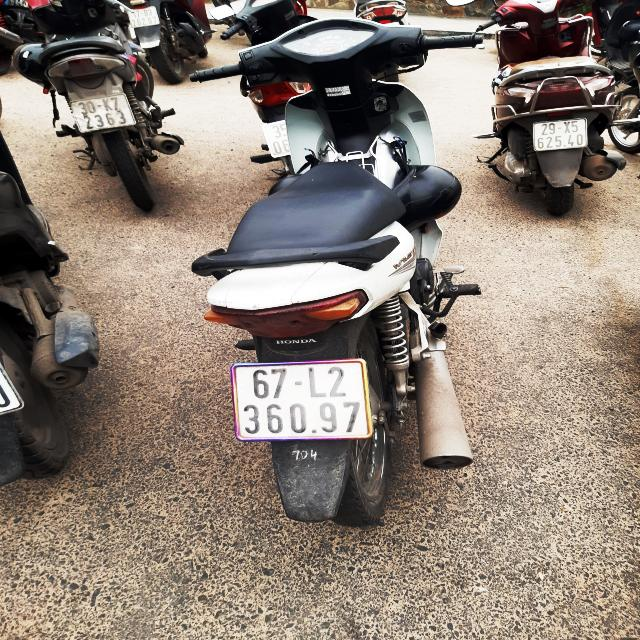license_plate: (231, 360, 376, 443)
